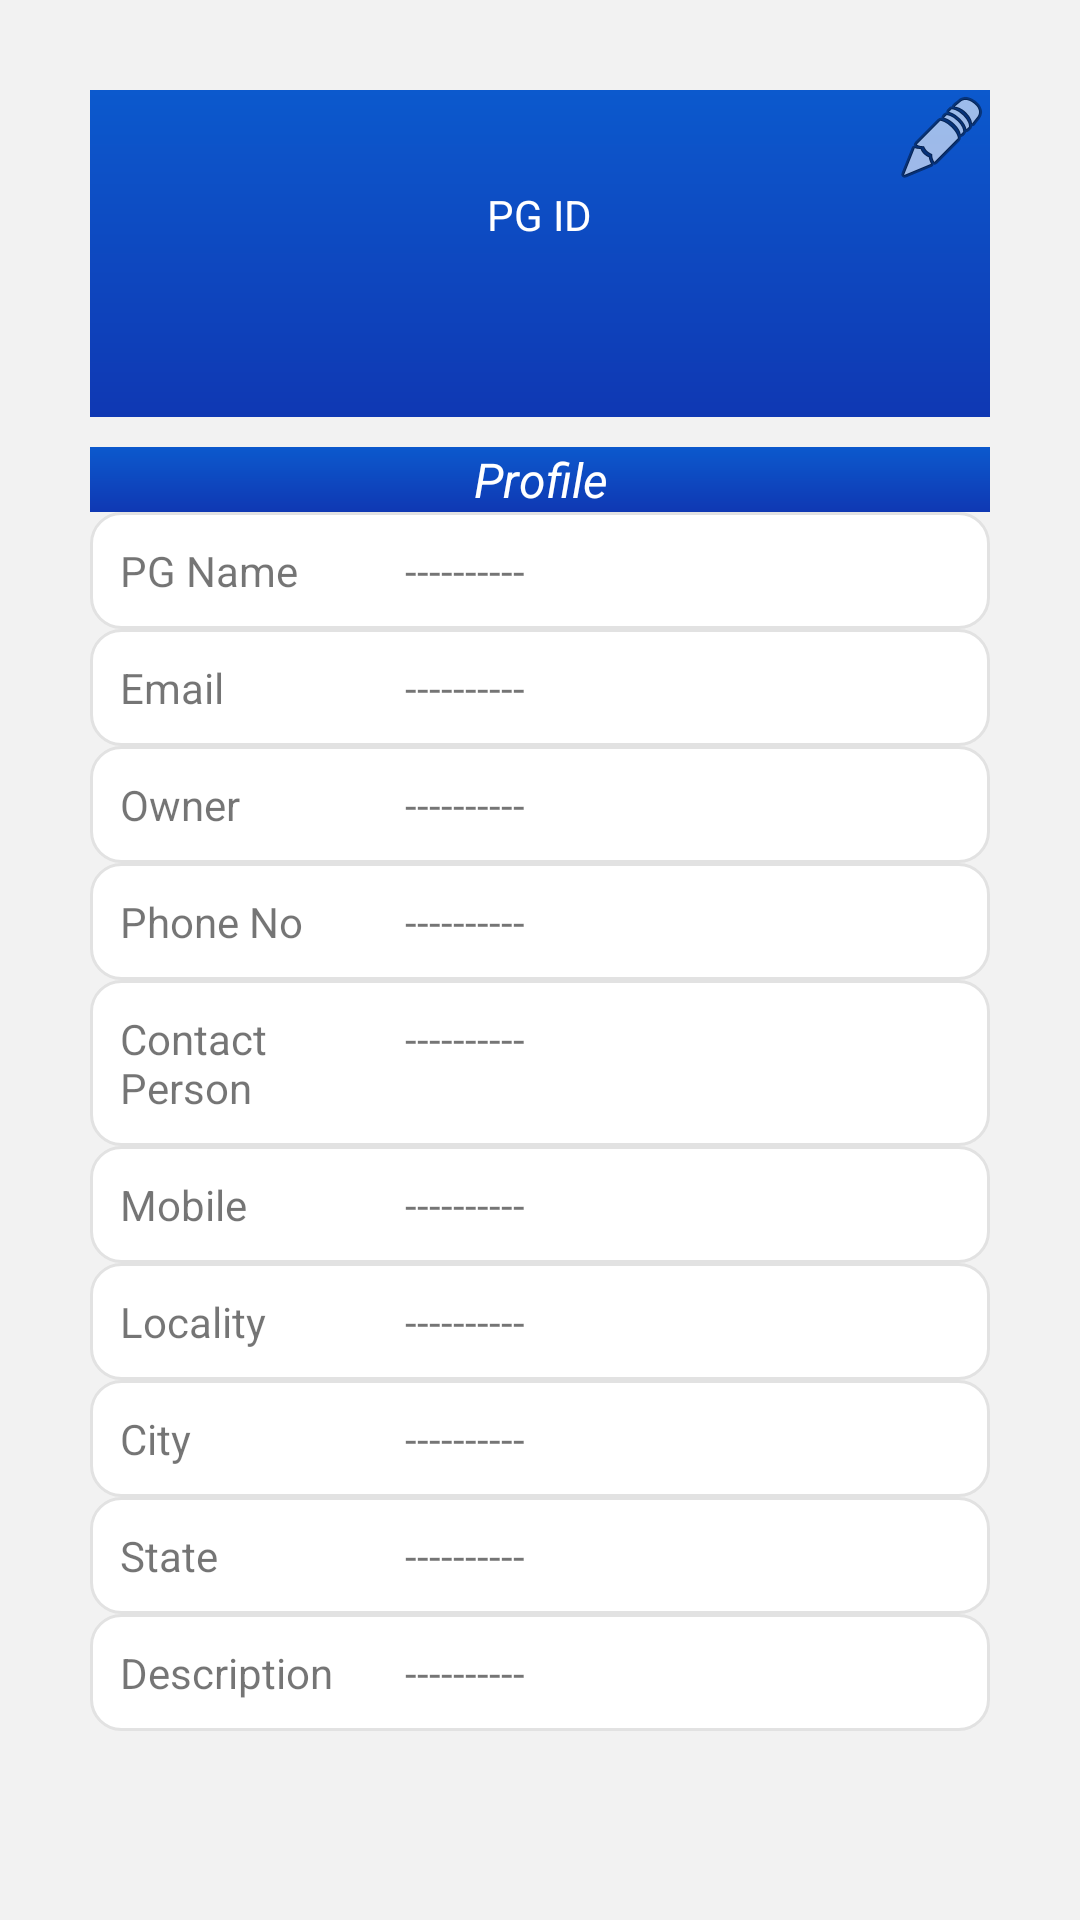

Point at icon controls on the screen. Image size 1080px×1920px, points as (x,y).
edit: (942,138)
